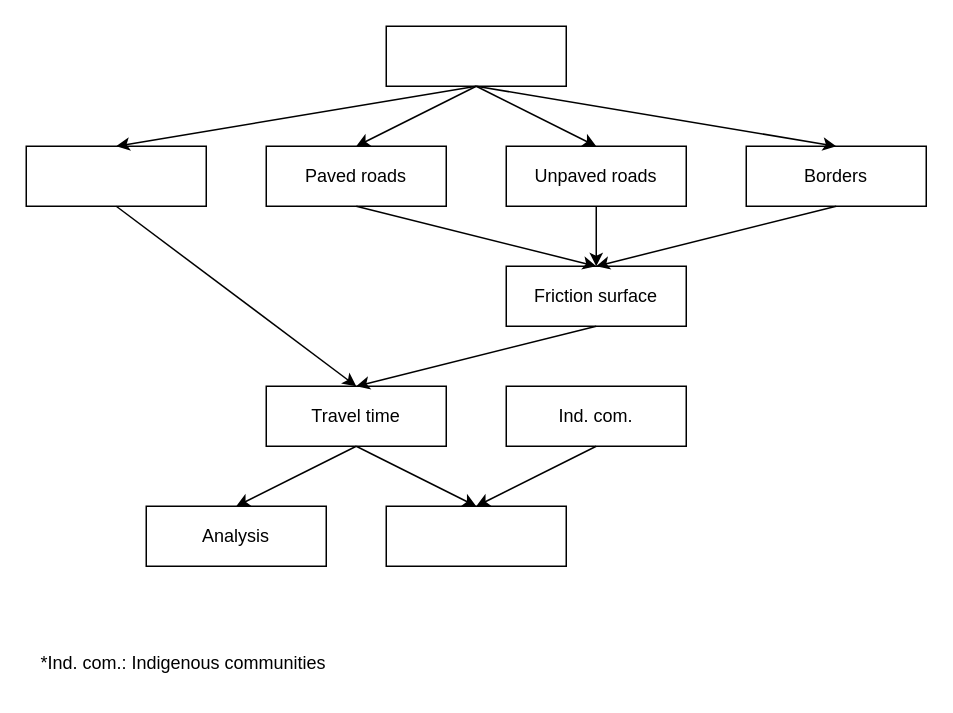
This 953x713 diagram has some shape labels left out. The shapes that lost their labels are listed below. From the top down, each one's centre as x and y in pixels, then its label:
At (475,55): "Study area".
At (115,175): "Facilities".
At (475,535): "Analysis for ind. com.".
